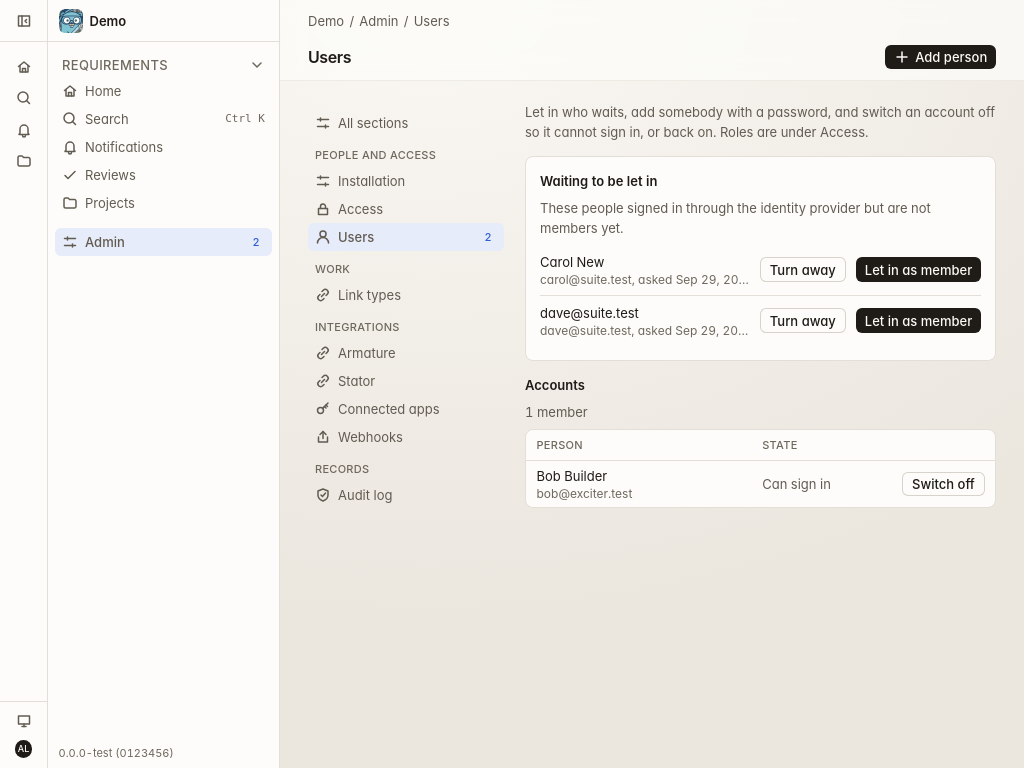
Test: the people waiting to be let in › are listed on the Members tab, and let in as members with one click
expect the list item "Carol New" shows "carol@suite.test, asked": met, box x1=540 y1=272 x2=809 y2=286
expect the text "dave@suite.test" is shown: met, box x1=540 y1=304 x2=639 y2=320
Step 1. Click the button "Let in as member" in the row of "Carol New" → (918, 270), box x1=856 y1=257 x2=981 y2=282
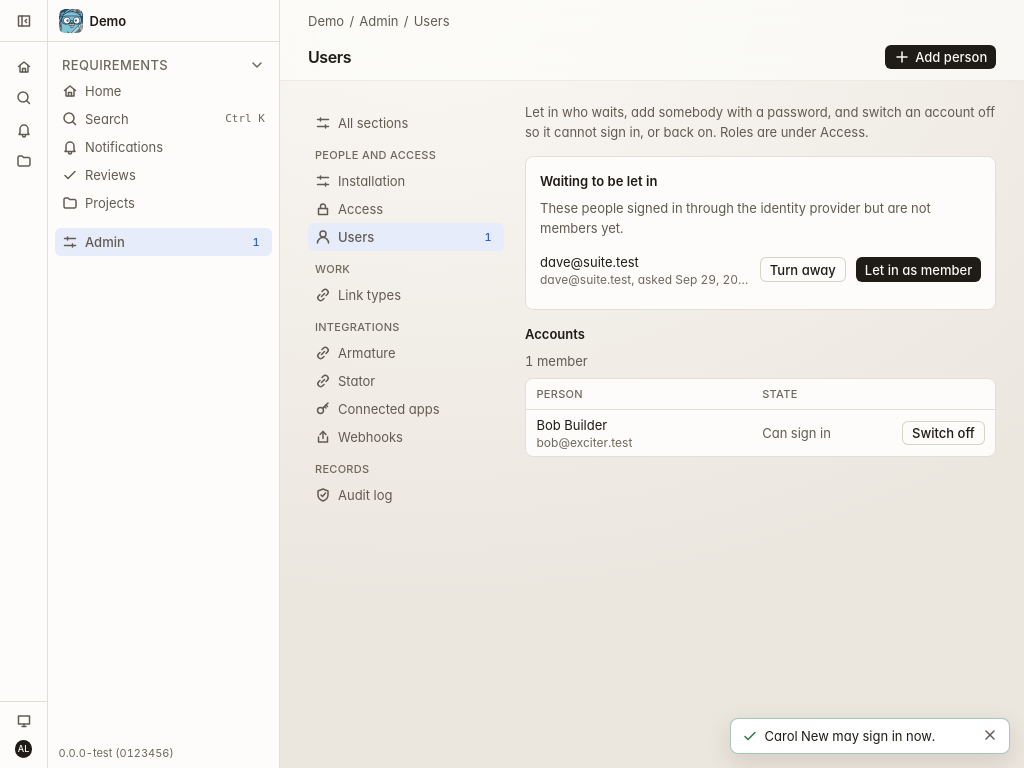
expect the text "Carol New may sign in now." is shown: met, box x1=764 y1=728 x2=935 y2=744
